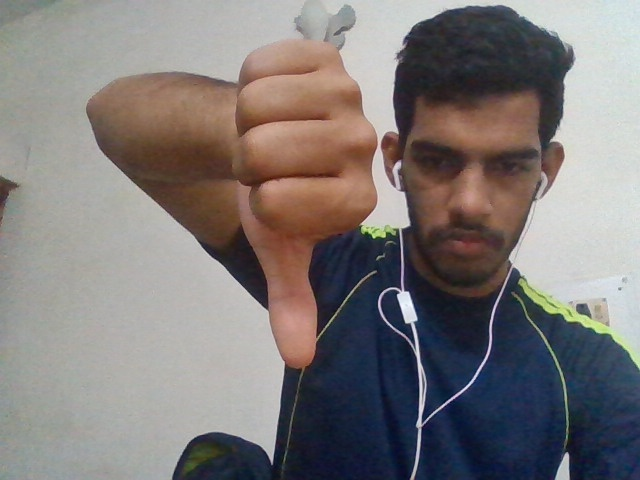no: (143, 24, 382, 366)
